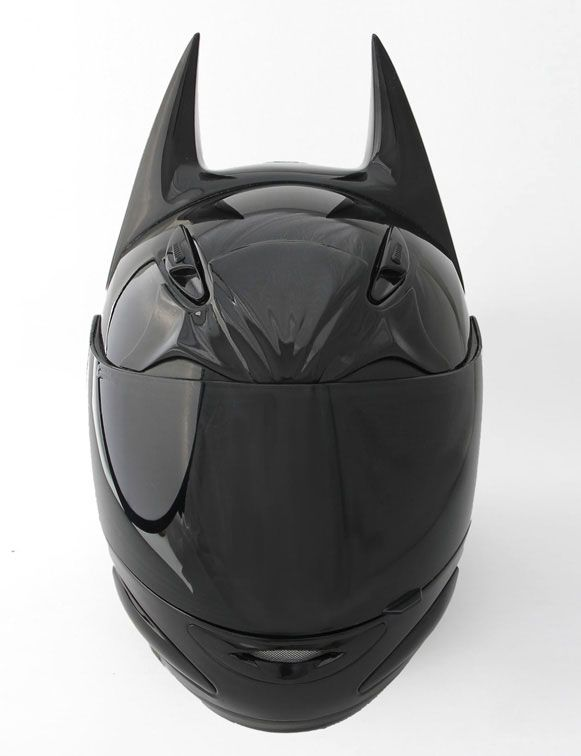with_helmet: (79, 20, 509, 736)
